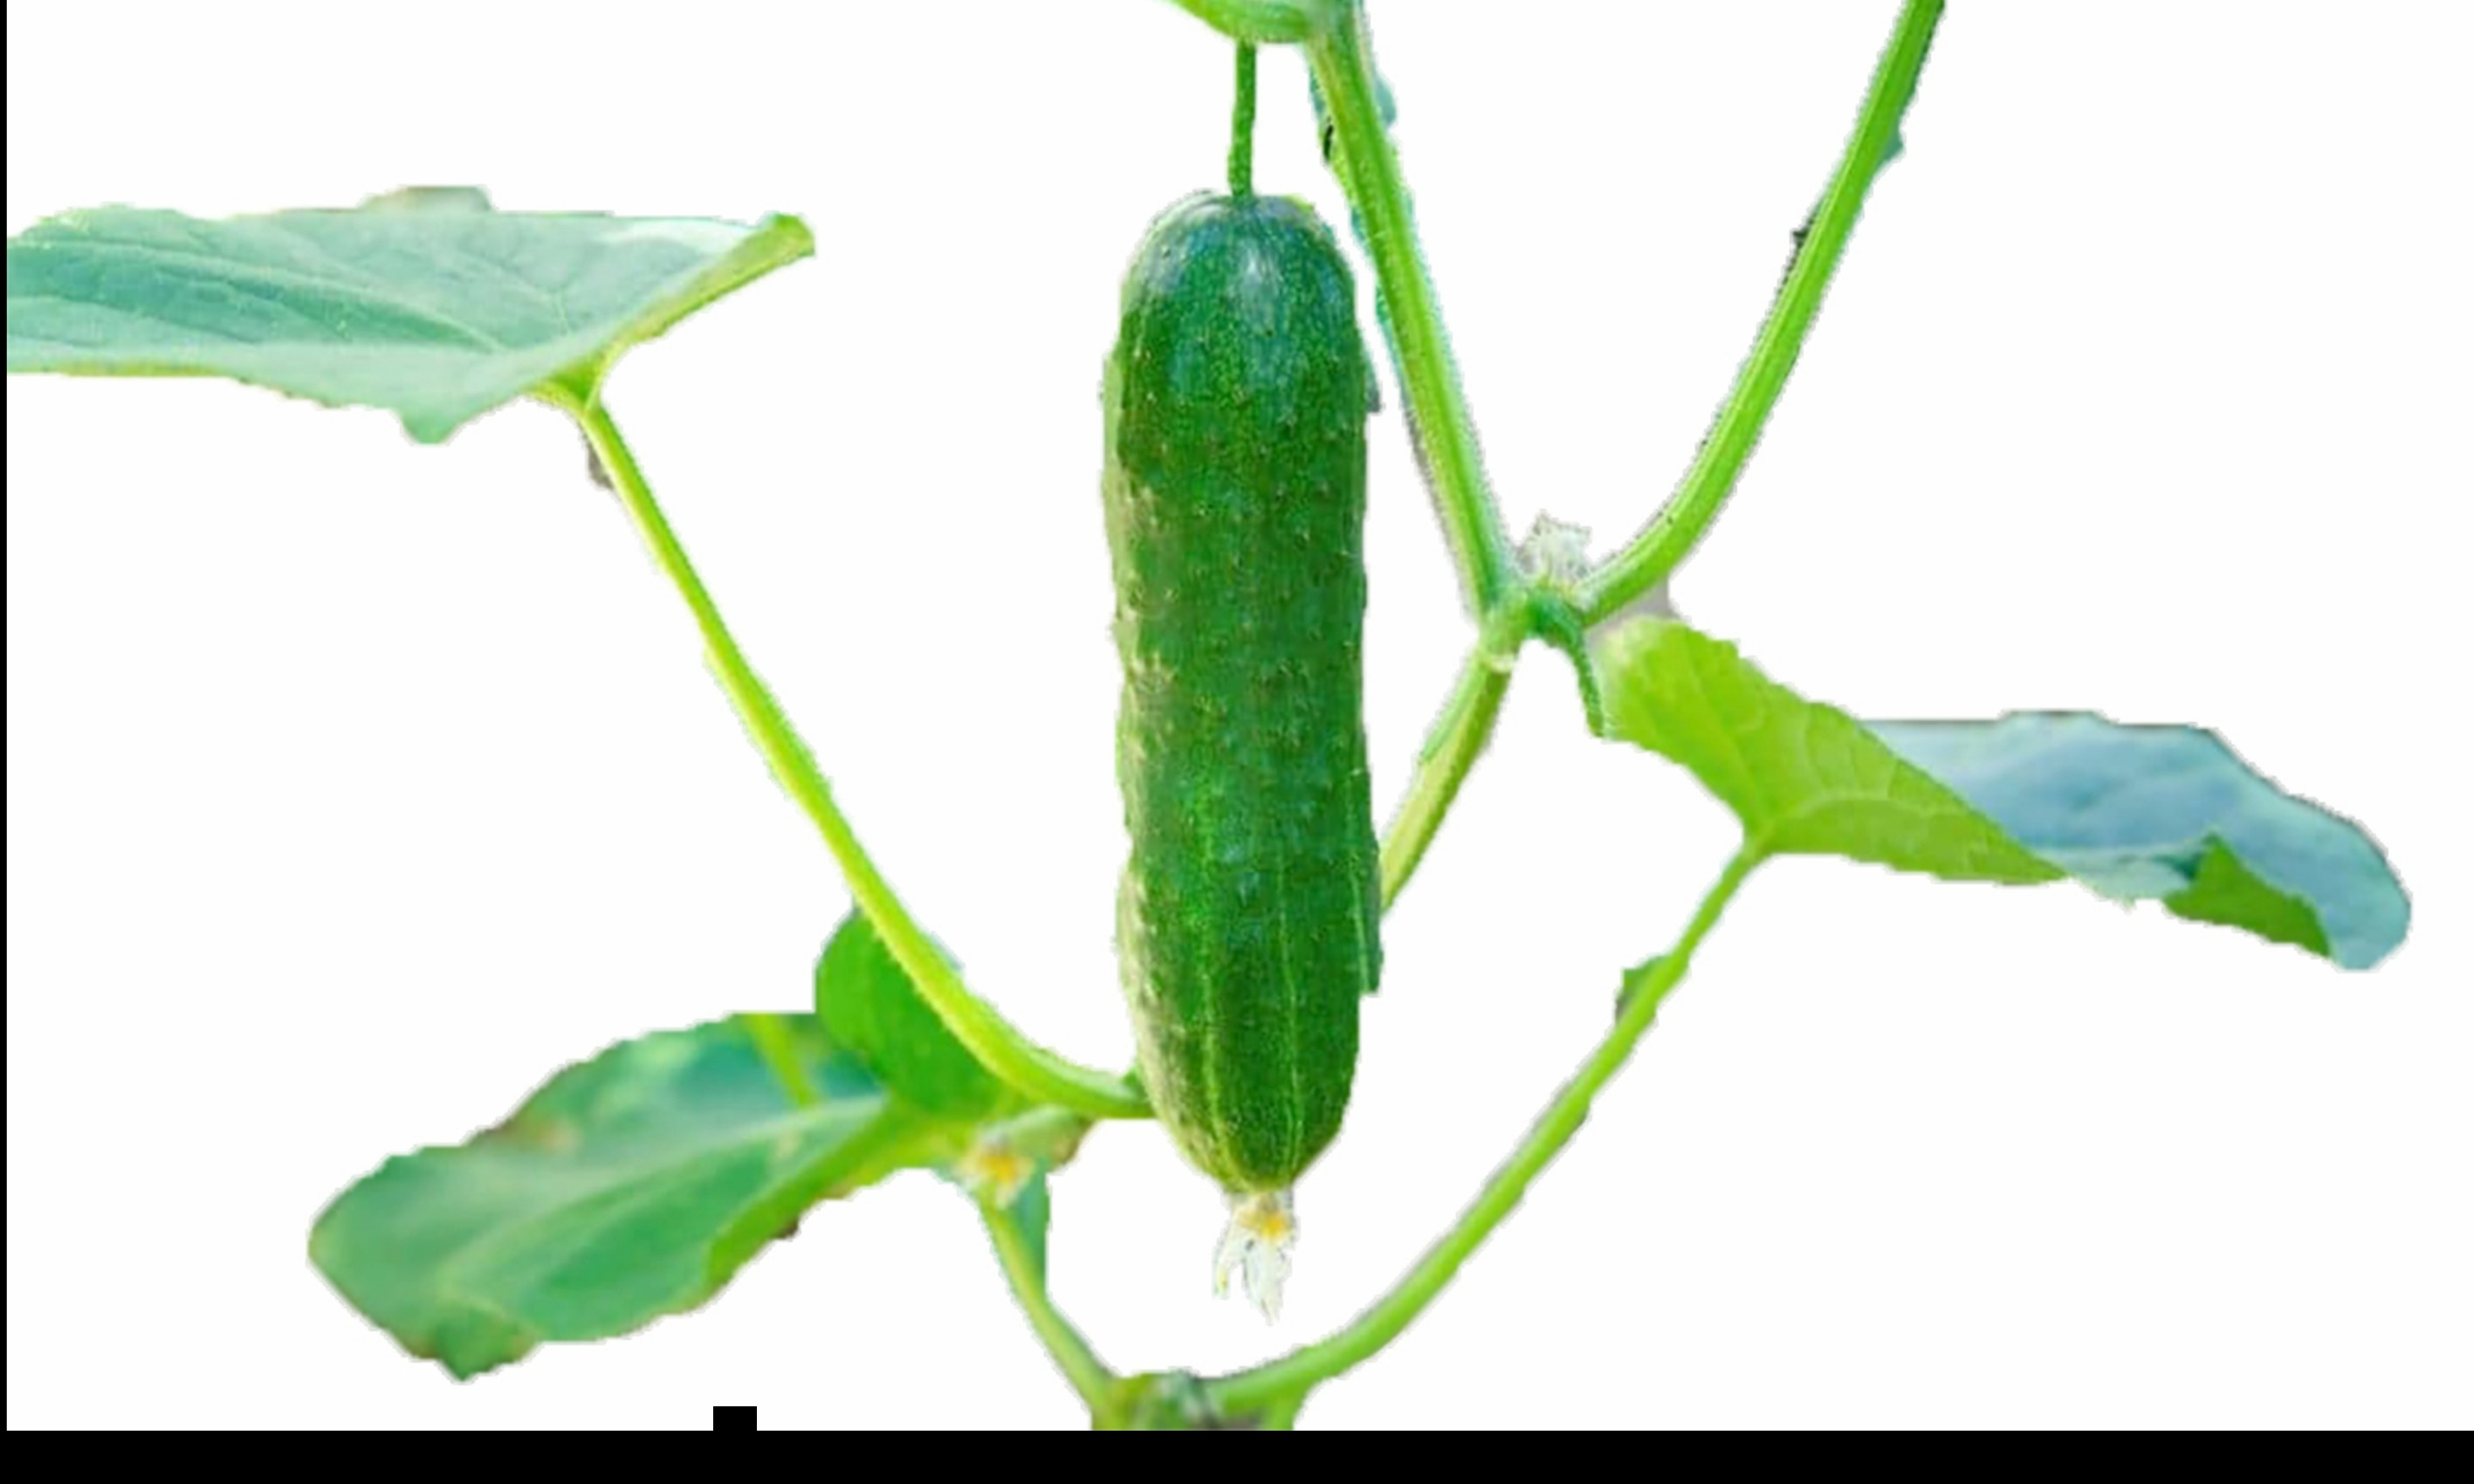corn_plant: (25, 184, 1090, 1410)
cucumber: (1086, 120, 1393, 1224)
cucumber_plant: (1416, 625, 2417, 1357)
